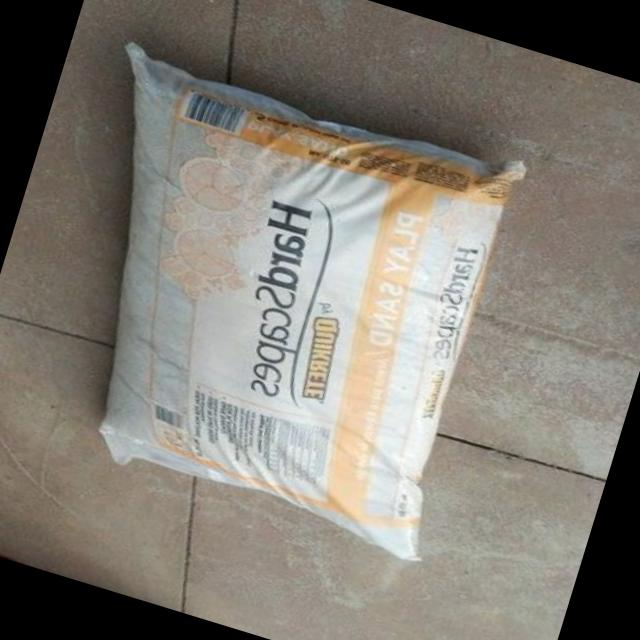KantongSemen: (1, 38, 542, 566)
